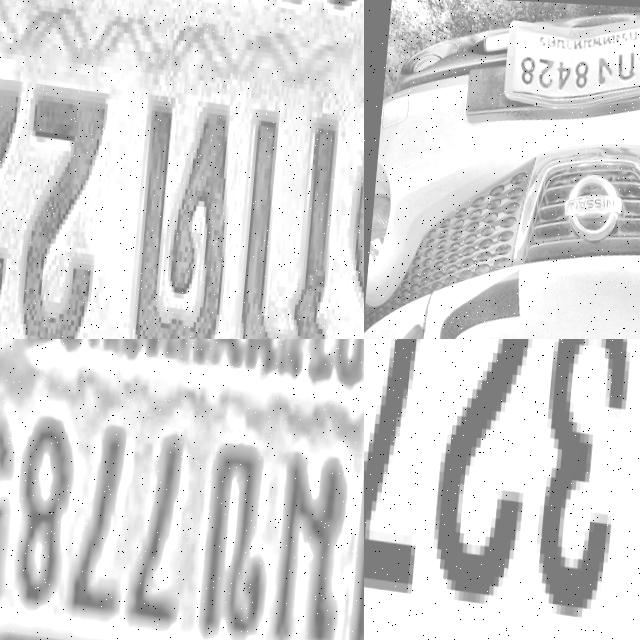license-plate: (0, 0, 364, 339), (0, 339, 364, 640), (364, 339, 640, 640), (494, 0, 640, 126)
